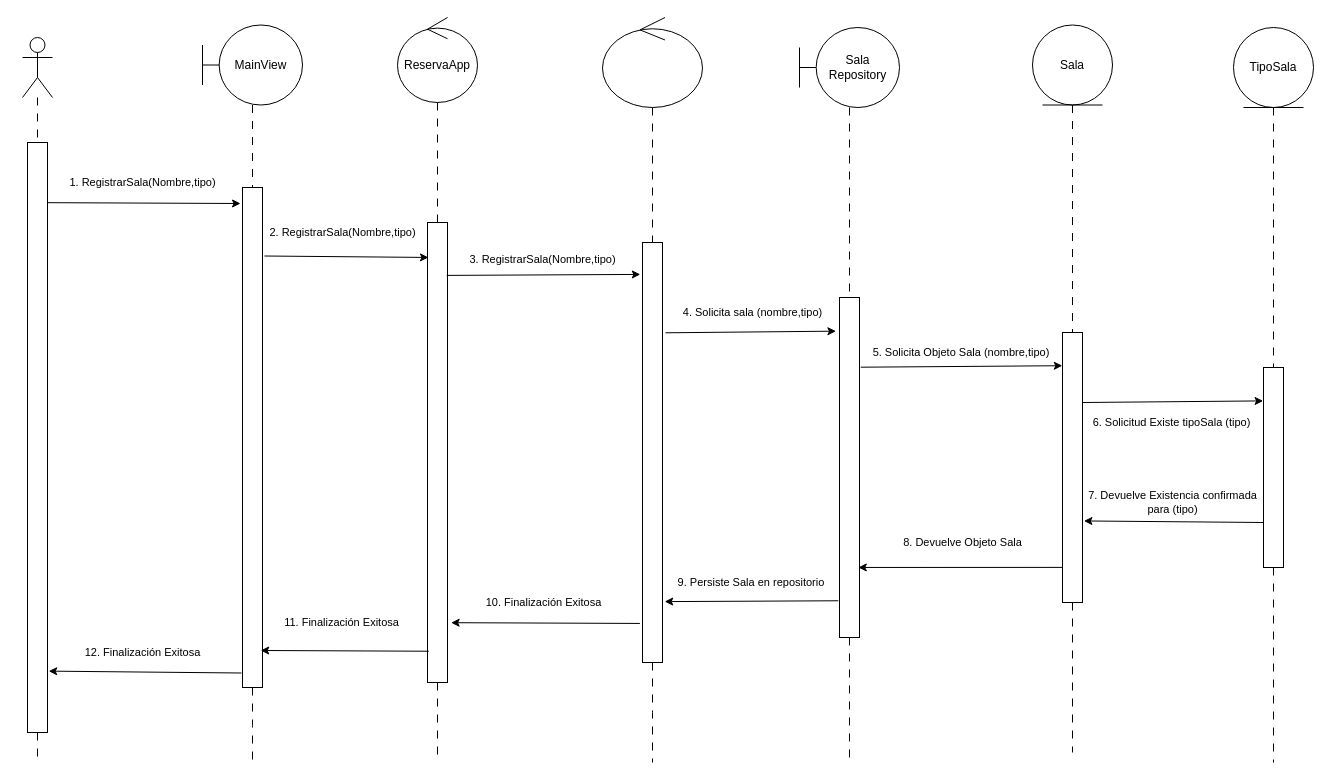
Image size: 1331x782. Some labels were removed from this diagram. Each missing label, with the centre of its shape:
"RegistrarSala UseCase" belongs at point (652, 62).
"Usuario" belongs at point (37, 67).
